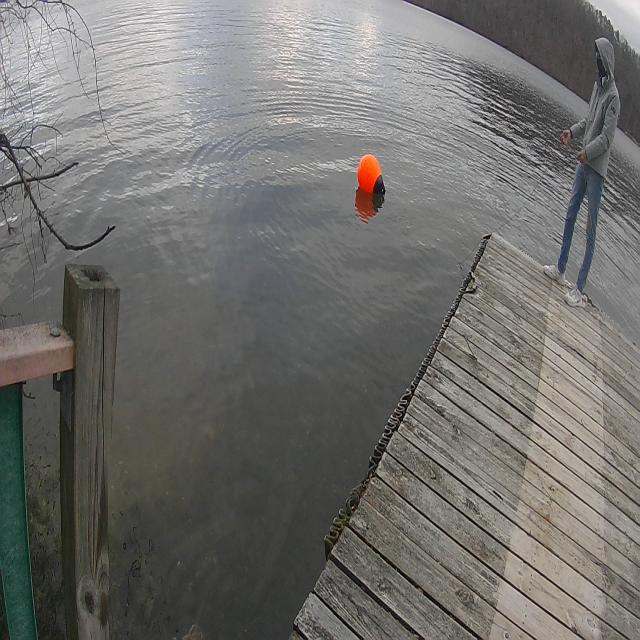Buoy: (357, 149, 388, 209)
